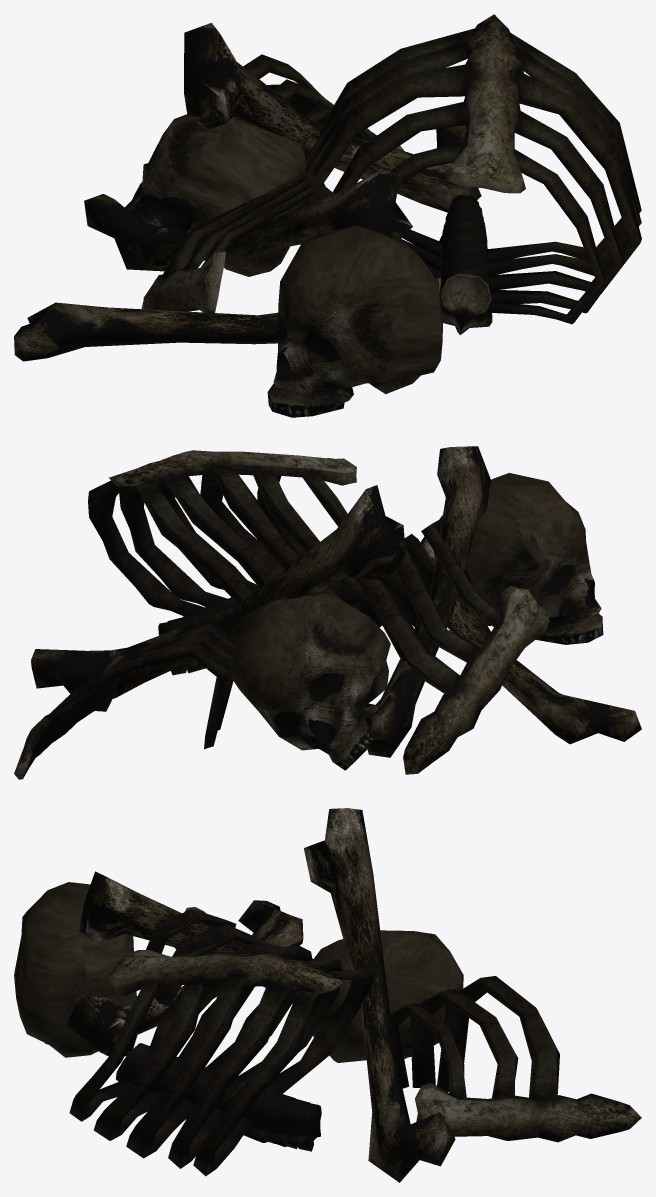
File: bone_pile_charred1.dae
The picture shows the model from 3 angles, top to bottom: view 1: azimuth 30°, elevation 25°; view 2: azimuth 150°, elevation 25°; view 3: azimuth 270°, elevation 25°; orthographic projection. The views are drawn at different scales.
Visible parts, largest first — view 1: ribbcage, polySurface3, polySurface52, polySurface56, polySurface1, polySurface54, polySurface77, polySurface76; view 2: ribbcage, polySurface52, polySurface77, polySurface3, polySurface56, polySurface1, polySurface76, polySurface54; view 3: ribbcage, polySurface76, polySurface56, polySurface3, polySurface52, polySurface54, polySurface1, polySurface77.
Boxes of the visible parts, left/top/right/bottom form: ribbcage: left=304, top=14, right=641, bottom=334; polySurface3: left=267, top=226, right=442, bottom=417; polySurface52: left=125, top=114, right=307, bottom=276; polySurface56: left=184, top=23, right=481, bottom=212; polySurface1: left=84, top=169, right=412, bottom=271; polySurface54: left=14, top=278, right=441, bottom=361; polySurface77: left=141, top=170, right=333, bottom=317; polySurface76: left=243, top=54, right=404, bottom=151; ribbcage: left=88, top=450, right=396, bottom=675; polySurface52: left=230, top=593, right=390, bottom=770; polySurface77: left=356, top=519, right=549, bottom=774; polySurface3: left=434, top=473, right=603, bottom=644; polySurface56: left=31, top=485, right=405, bottom=698; polySurface1: left=365, top=446, right=491, bottom=757; polySurface76: left=14, top=623, right=235, bottom=779; polySurface54: left=420, top=536, right=641, bottom=744; ribbcage: left=69, top=945, right=373, bottom=1176; polySurface76: left=390, top=976, right=641, bottom=1142; polySurface56: left=304, top=808, right=455, bottom=1182; polySurface3: left=14, top=882, right=137, bottom=1057; polySurface52: left=313, top=930, right=463, bottom=1062; polySurface54: left=67, top=900, right=303, bottom=1056; polySurface1: left=79, top=871, right=248, bottom=955; polySurface77: left=146, top=907, right=313, bottom=1013.
Bounding box in the file's own units: 1.09 × 0.505 × 1.11.
